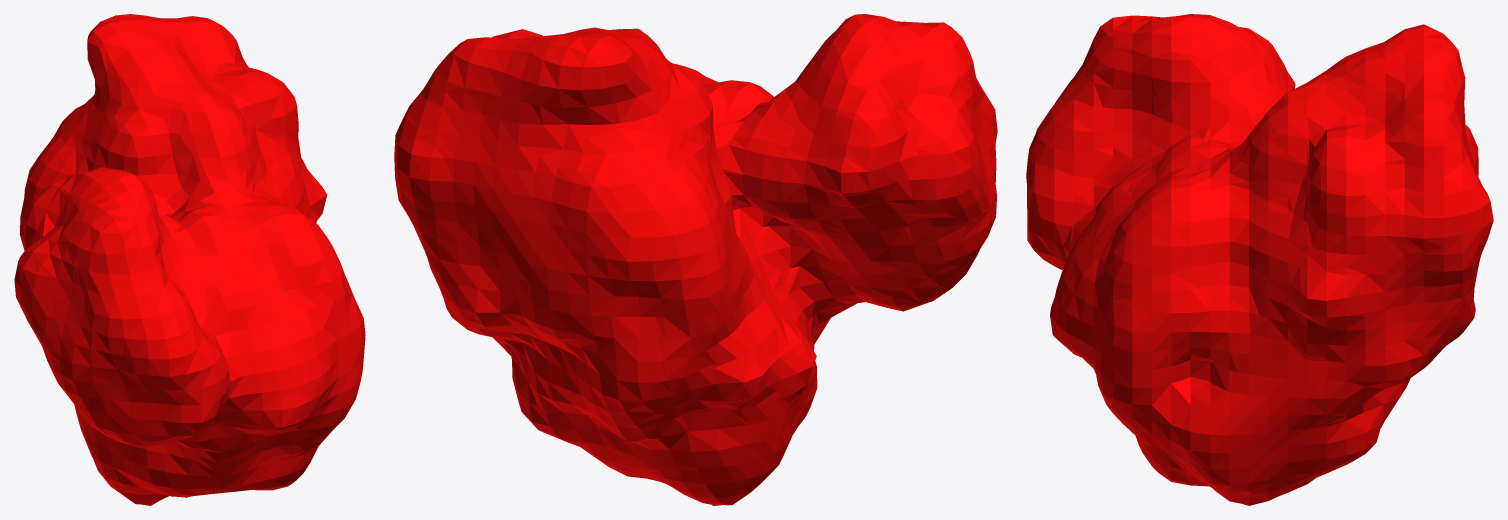
Rendered from glmM_coarse.dae.
3 views of the same model, side by side, from view 1: azimuth 30°, elevation 25°; view 2: azimuth 150°, elevation 25°; view 3: azimuth 270°, elevation 25° (orthographic). The views are drawn at different scales.
Visible parts, largest first — view 1: glmM; view 2: glmM; view 3: glmM.
Boxes of the visible parts, x1=… form: glmM: x1=14, y1=14, x2=365, y2=505; glmM: x1=394, y1=14, x2=997, y2=505; glmM: x1=1026, y1=14, x2=1493, y2=505.
Bounding box in the file's own units: 60.2 × 66.65 × 62.1.
